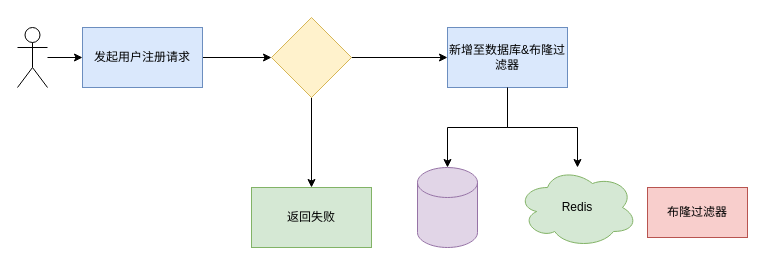
This 765x265 diagram has some shape labels left out. The centre of each missing label's shape, as x and y in pixels:
"Actor" goes at [32,57].
"DB" goes at [447,207].
"判断用户名是否可用" goes at [311,57].
